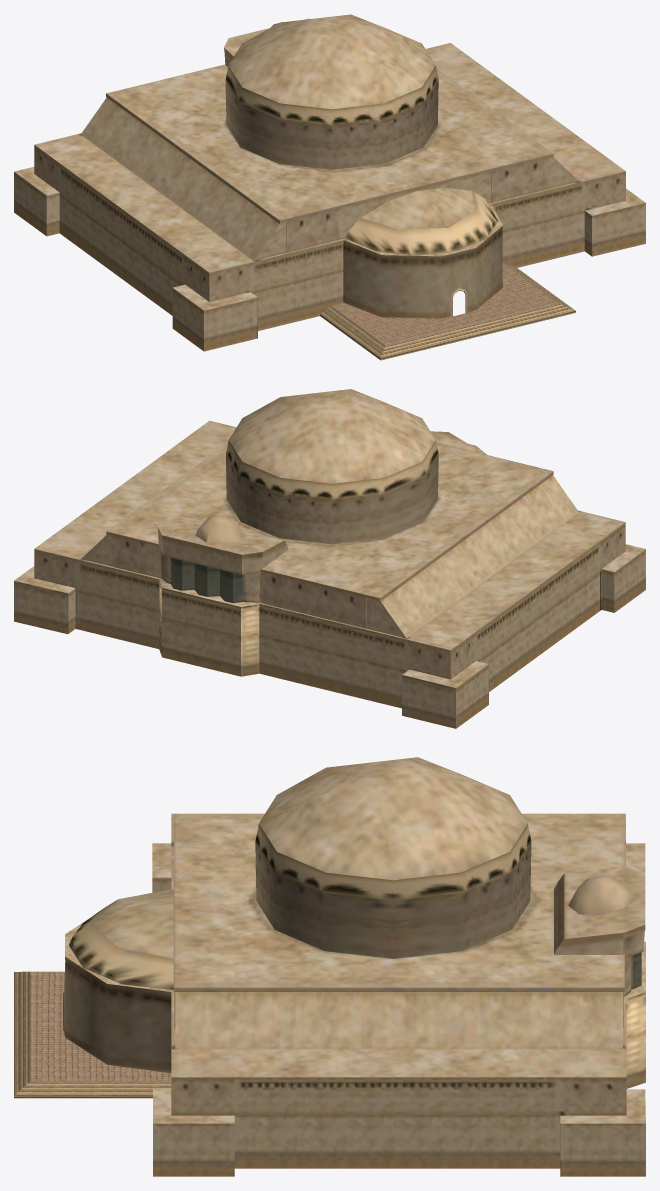
File: mun_tato_hotel_s01_r0_mesh_l2.fbx
3 renders of one model, top to bottom at view 1: azimuth 30°, elevation 25°; view 2: azimuth 150°, elevation 25°; view 3: azimuth 270°, elevation 25°, orthographic. The views are drawn at different scales.
Parts seen in each view (by area): view 1: mesh_node; view 2: mesh_node; view 3: mesh_node.
Part boxes in pixels (bbox=[...]): mesh_node: bbox=[14, 14, 645, 360]; mesh_node: bbox=[14, 389, 645, 728]; mesh_node: bbox=[14, 757, 645, 1176].
Bounding box in the file's own units: 59.59 × 26.33 × 56.85.
